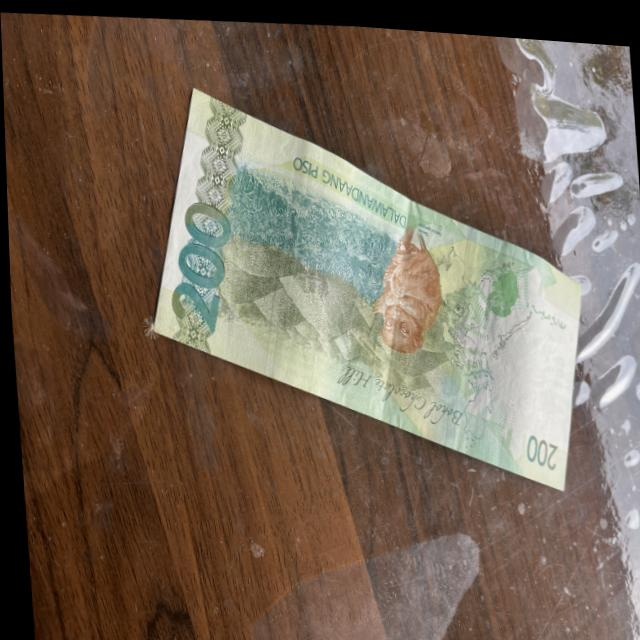200_tarsier: (360, 202, 452, 369)
200_tarsier_watermark: (472, 236, 525, 323)
